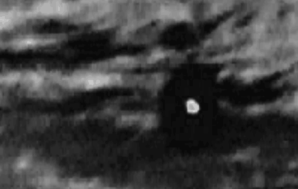Target: (186, 99, 199, 113)
